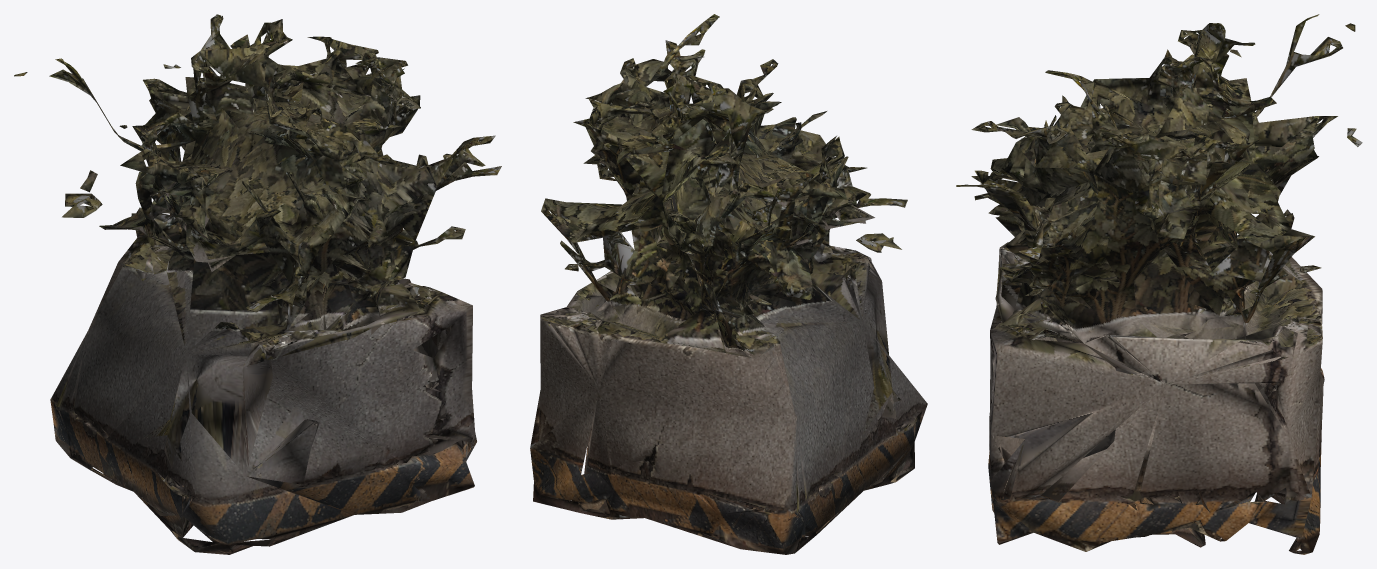
Rendered from prop_bush.glb.
3 views of the same model, side by side, from view 1: azimuth 30°, elevation 25°; view 2: azimuth 150°, elevation 25°; view 3: azimuth 270°, elevation 25° (orthographic). The views are drawn at different scales.
Parts seen in each view (by area): view 1: texture_mapping; view 2: texture_mapping; view 3: texture_mapping.
Part boxes in pixels (box(x1,y1,x2,y2)): texture_mapping: box(14, 14, 501, 554); texture_mapping: box(530, 14, 927, 554); texture_mapping: box(956, 14, 1362, 554).
Size of the model in its own units: 0.8532 by 0.968 by 0.7734.
1 material, 1 textured.
